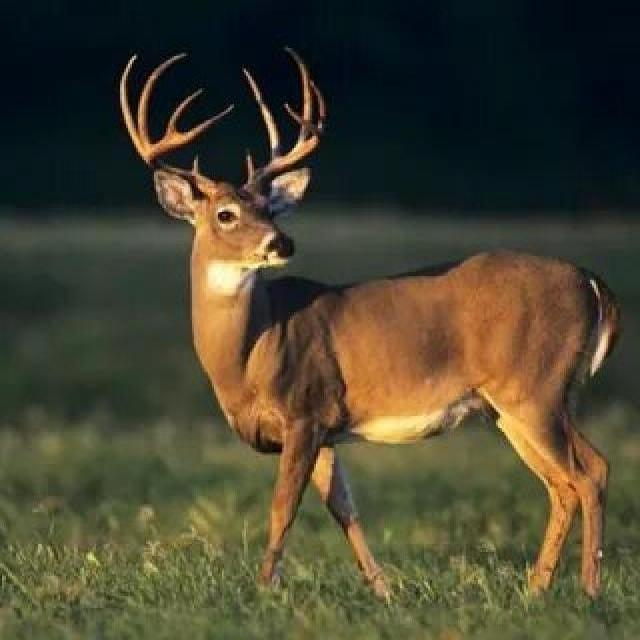deer: (143, 89, 640, 556)
